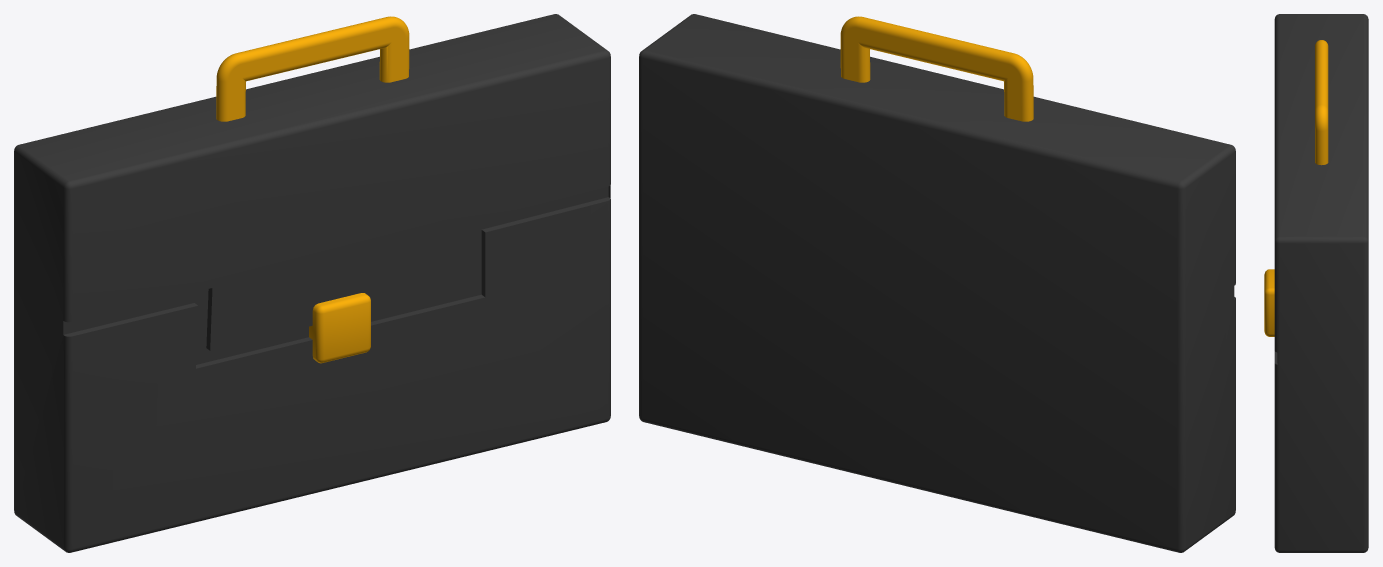
Rendered from AP_Investor.glb.
3 views of the same model, side by side, from view 1: azimuth 30°, elevation 25°; view 2: azimuth 150°, elevation 25°; view 3: azimuth 270°, elevation 25° (orthographic). The views are drawn at different scales.
Parts seen in each view (by area): view 1: Cube.001, Sweep.003, Sweep.001, Cube; view 2: Cube.001, Sweep.001; view 3: Cube.001, Sweep.001, Cube.
Part boxes in pixels (left/top/right/bottom): Cube.001: left=14, top=14, right=610, bottom=552; Sweep.003: left=63, top=185, right=610, bottom=368; Sweep.001: left=216, top=16, right=409, bottom=121; Cube: left=309, top=293, right=370, bottom=363; Cube.001: left=639, top=14, right=1235, bottom=552; Sweep.001: left=840, top=16, right=1033, bottom=121; Cube.001: left=1274, top=14, right=1368, bottom=552; Sweep.001: left=1315, top=40, right=1328, bottom=165; Cube: left=1264, top=269, right=1274, bottom=336.
Bounding box in the file's own units: 200 × 152 × 38.82.
